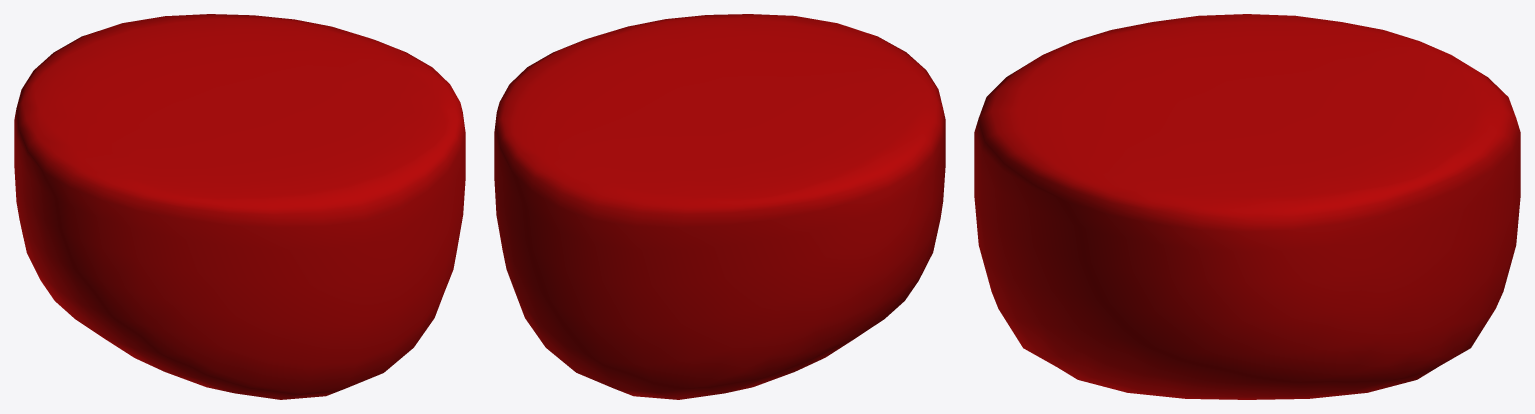
The picture shows the model from 3 angles, left to right: view 1: azimuth 30°, elevation 25°; view 2: azimuth 150°, elevation 25°; view 3: azimuth 270°, elevation 25°; orthographic projection. The views are drawn at different scales.
Bounding box in the file's own units: 0.0574 × 0.0338 × 0.0639.
